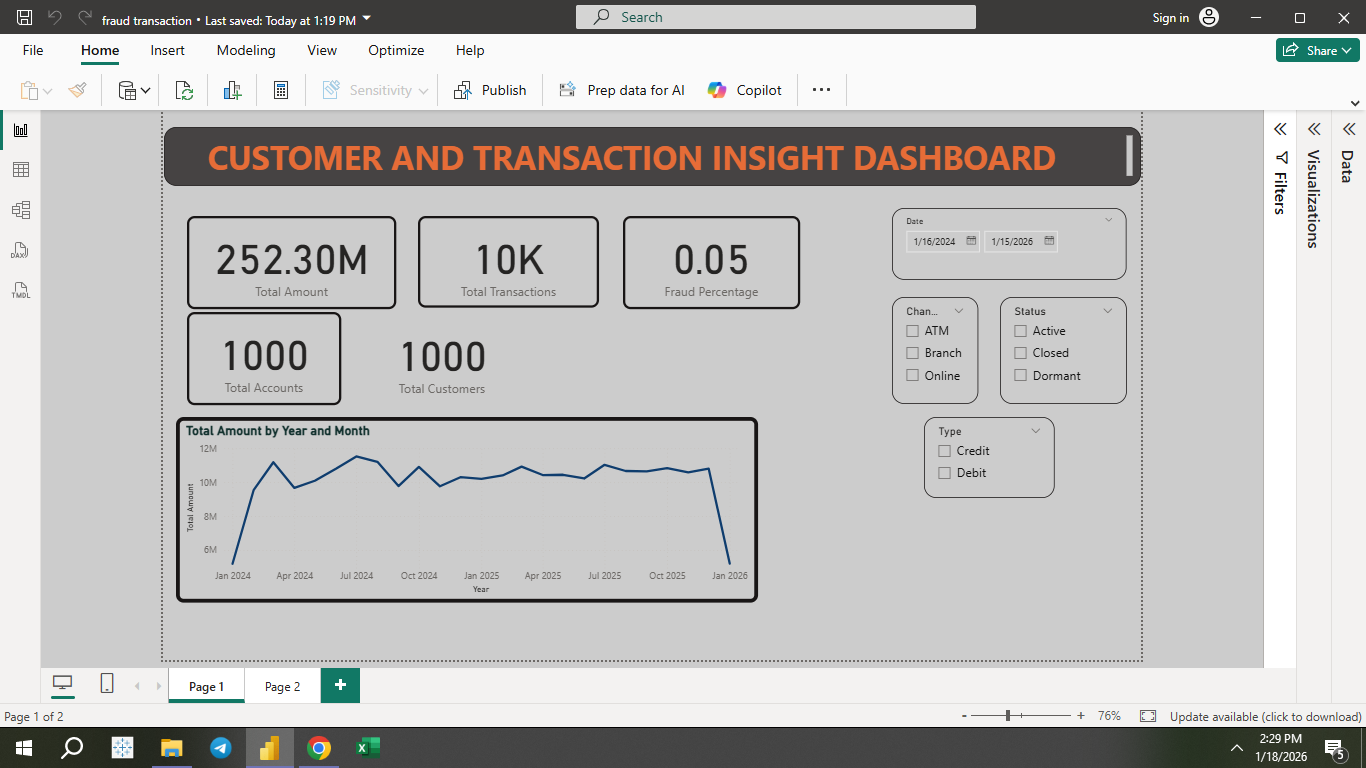

This screenshot's page, from the dashboard's own definition file:
{"tool":"powerbi","page":{"name":"Page 1","canvas":[1280,720],"ordinal":0},"visuals":[{"type":"card","fields":{"Values":["Customers.Total Customers"]},"box":[250,265.7,230.4,120.4],"z":0},{"type":"card","fields":{"Values":["Accounts.Total Accounts"]},"box":[31.4,264.4,201.6,121.7],"z":1000},{"type":"card","fields":{"Values":["Transactions.Total Transactions"]},"box":[333.8,138.8,236.9,120.4],"z":2000},{"type":"card","fields":{"Values":["Transactions.Fraud Percentage"]},"box":[602.2,138.8,231.7,121.7],"z":3000},{"type":"card","fields":{"Values":["Transactions.Total Amount"]},"box":[31.4,138.8,273.6,121.7],"z":4000},{"type":"slicer","fields":{"Values":["Transactions.Type"]},"box":[996.2,401.9,171.5,106],"z":5000},{"type":"slicer","fields":{"Values":["Accounts.Status"]},"box":[1095.7,244.8,166.3,140.1],"z":6000},{"type":"slicer","fields":{"Values":["Transactions.Date"]},"box":[954.8,127.7,307.1,94.2],"z":7000},{"type":"slicer","fields":{"Values":["Transactions.Channel"]},"box":[954.3,244.8,112.6,140.1],"z":8000},{"type":"lineChart","fields":{"Y":["Transactions.Total Amount"],"Category":["Transactions.Date.Variation.Date Hierarchy.Year","Transactions.Date.Variation.Date Hierarchy.Month"]},"box":[17,401.9,761.9,243.5],"z":9000},{"type":"textbox","box":[1.3,21.9,1278.7,77.4],"z":10000}]}

Visuals, with their boxes on the page's 1280x720 design canvas (x1, y1, x2, y2). These are canvas units, not pixel positions in the 1366x768 screenshot, which may show the page scaled, cropped or inside an application window:
card - Customers.Total Customers: x1=250, y1=266, x2=480, y2=386
card - Accounts.Total Accounts: x1=31, y1=264, x2=233, y2=386
card - Transactions.Total Transactions: x1=334, y1=139, x2=571, y2=259
card - Transactions.Fraud Percentage: x1=602, y1=139, x2=834, y2=260
card - Transactions.Total Amount: x1=31, y1=139, x2=305, y2=260
slicer - Transactions.Type: x1=996, y1=402, x2=1168, y2=508
slicer - Accounts.Status: x1=1096, y1=245, x2=1262, y2=385
slicer - Transactions.Date: x1=955, y1=128, x2=1262, y2=222
slicer - Transactions.Channel: x1=954, y1=245, x2=1067, y2=385
lineChart - Transactions.Total Amount x Transactions.Date.Variation.Date Hierarchy.Year: x1=17, y1=402, x2=779, y2=645
textbox: x1=1, y1=22, x2=1280, y2=99
